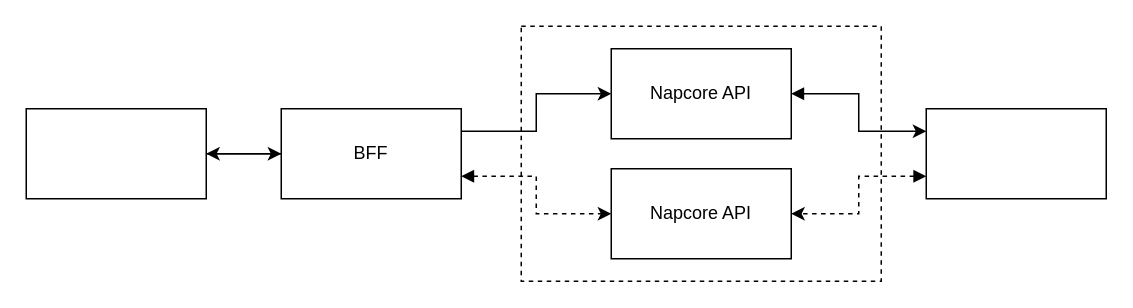
The diagram is 1133 pixels wide and 308 high, and some of its shapes have lost their labels. Here are the shapes that lost their labels. From the top down, the box of each, then its label:
(25, 107, 206, 199): Client
(925, 107, 1106, 199): IXN (Onboard API)
